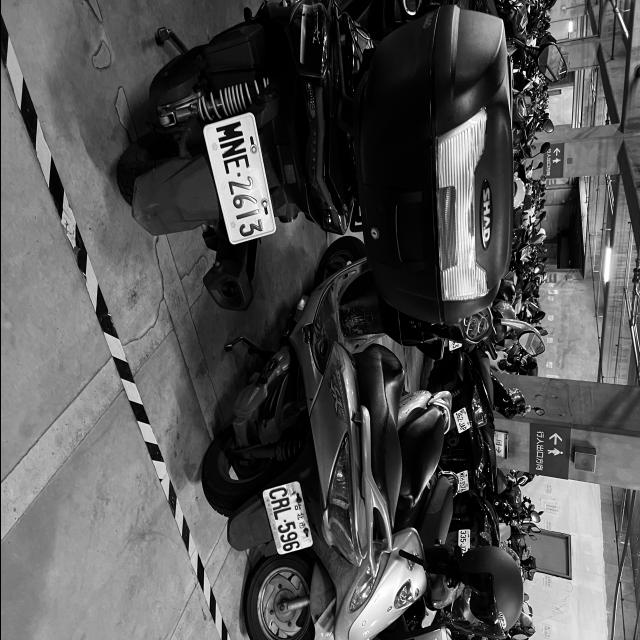-: (235, 172, 242, 178), (281, 518, 287, 523), (459, 420, 461, 423), (461, 542, 463, 544)
1: (233, 207, 260, 221)
2: (225, 176, 254, 198), (456, 417, 463, 422)
3: (236, 217, 263, 240), (454, 410, 461, 416), (452, 343, 458, 349), (460, 530, 466, 534), (460, 534, 466, 538), (459, 481, 464, 484)
5: (274, 521, 296, 535), (459, 538, 465, 542), (459, 483, 465, 487)
6: (230, 191, 258, 211), (280, 539, 301, 553), (455, 413, 462, 419), (459, 488, 465, 492)
7: (459, 485, 465, 489)
9: (277, 529, 298, 544)
A: (458, 424, 465, 429)
C: (267, 486, 287, 500)
E: (222, 153, 250, 176)
H: (459, 477, 464, 482)
J: (458, 421, 464, 426), (459, 544, 465, 548)
K: (458, 474, 464, 479)
L: (271, 506, 292, 522)
M: (213, 120, 245, 144), (458, 472, 464, 476)
N: (217, 135, 247, 159)
P: (459, 426, 466, 432)
R: (270, 495, 291, 511)
plate: (203, 115, 274, 244), (263, 484, 309, 555), (453, 408, 469, 433), (457, 471, 467, 493)
